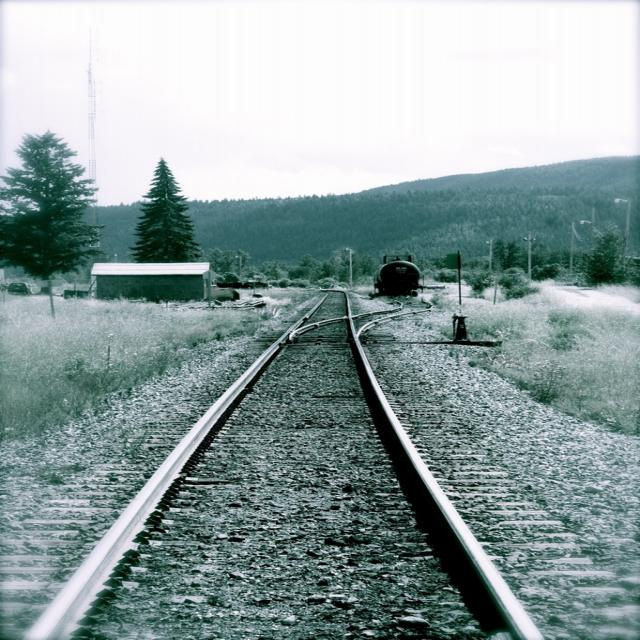tank: (371, 253, 425, 299)
